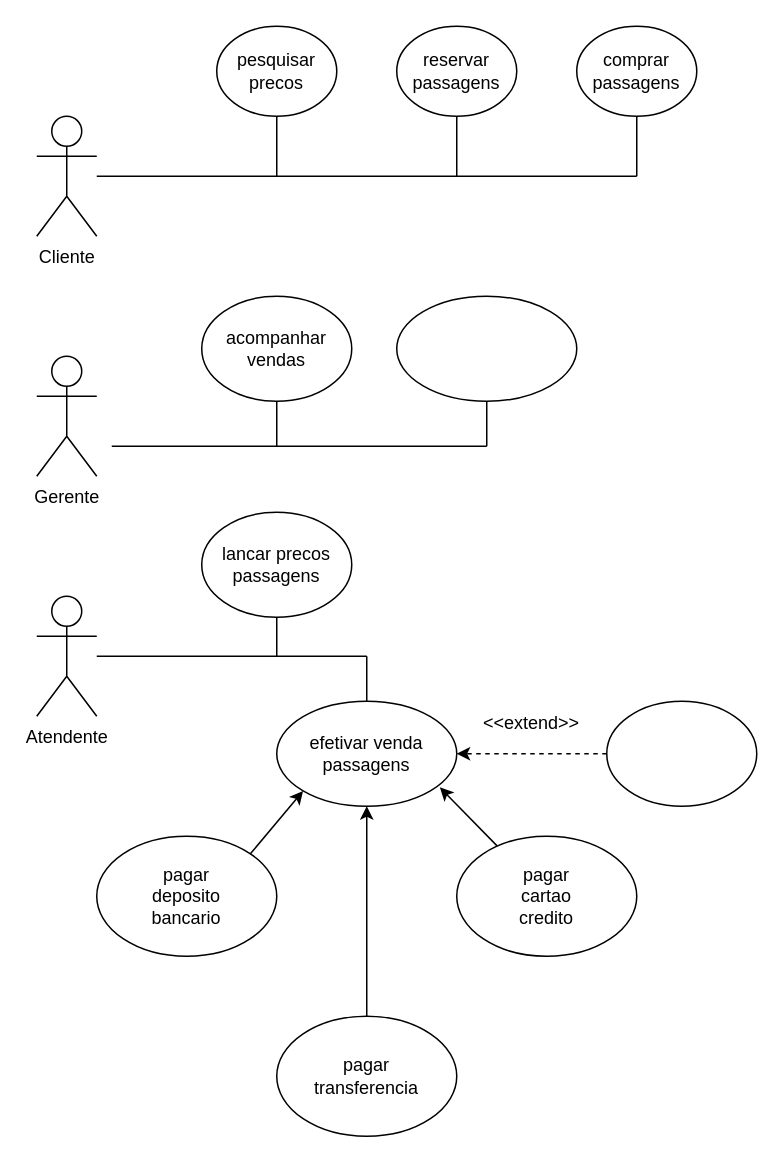
Image size: 783x1163. Some labels were removed from this diagram. Here are the shapes that lost their labels. From the top down, the box of each, then its label:
(395, 295, 577, 401): levantar frequencia funcionarios
(605, 700, 757, 806): emitir nota fiscal
